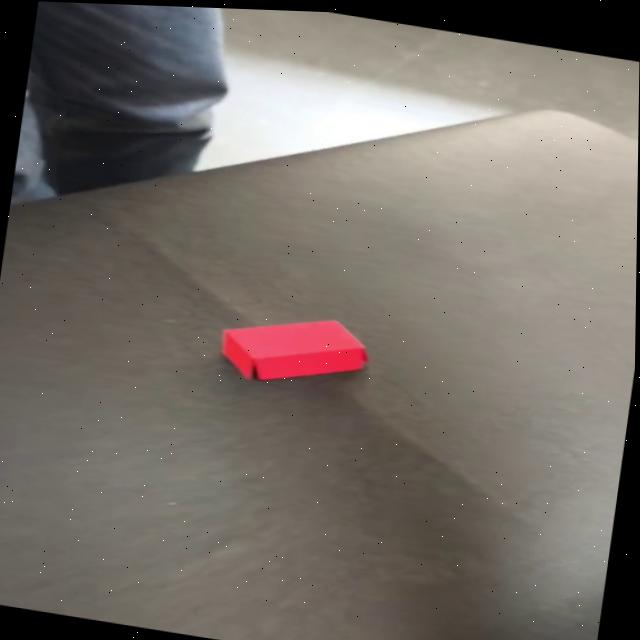red block: (215, 299, 373, 397)
